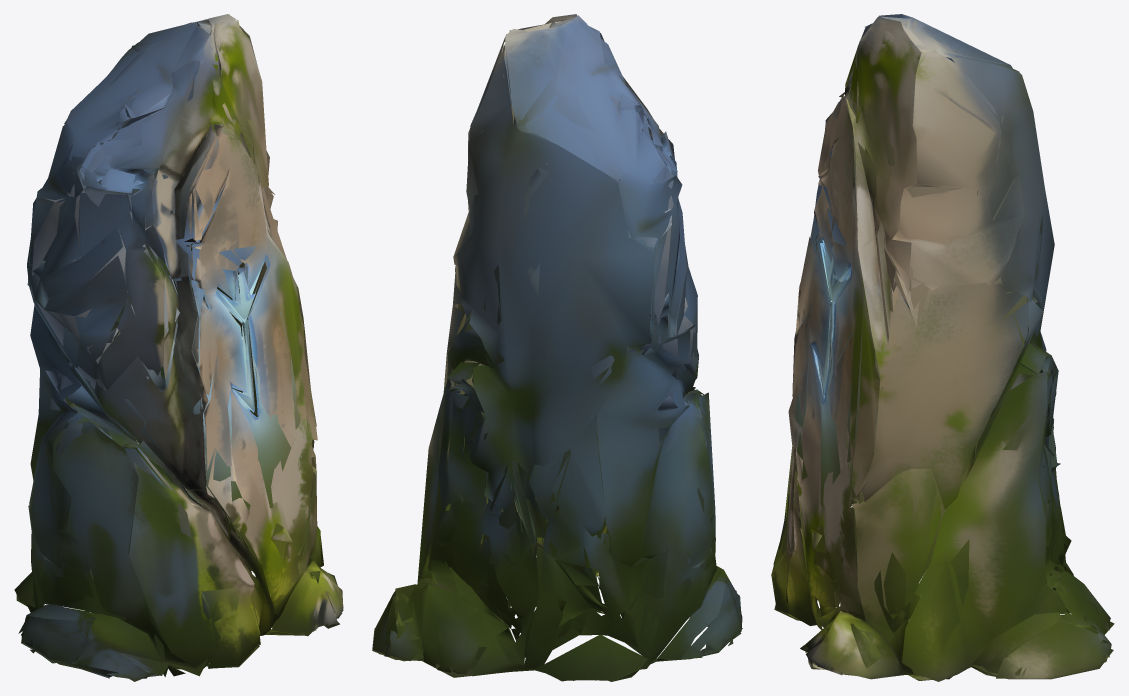
File: stone_tall2_hy.glb
3 views of the same model, side by side, from view 1: azimuth 30°, elevation 25°; view 2: azimuth 150°, elevation 25°; view 3: azimuth 270°, elevation 25° (orthographic). The views are drawn at different scales.
Visible parts, largest first — view 1: stone_tall2_hy; view 2: stone_tall2_hy; view 3: stone_tall2_hy.
Boxes of the visible parts, x1=… form: stone_tall2_hy: x1=14, y1=14, x2=343, y2=681; stone_tall2_hy: x1=372, y1=14, x2=742, y2=681; stone_tall2_hy: x1=771, y1=14, x2=1114, y2=681.
Size of the model in its own units: 2.16 by 4.17 by 2.12.
1 material, 1 textured.
